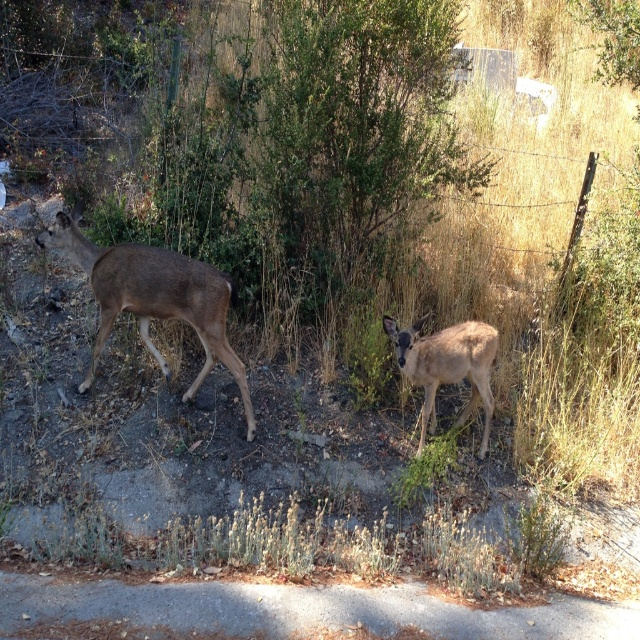Deer: (37, 191, 257, 442), (382, 318, 497, 459)
